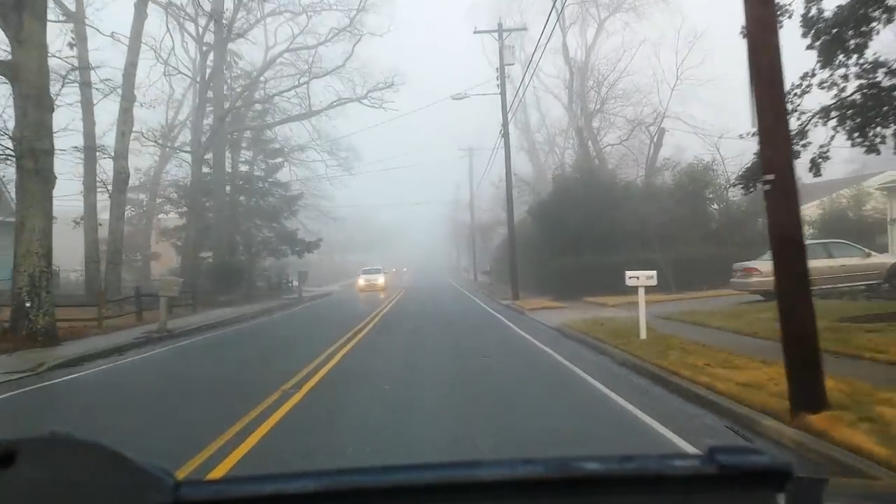car: (727, 237, 896, 298), (356, 264, 388, 293), (391, 263, 408, 276)
